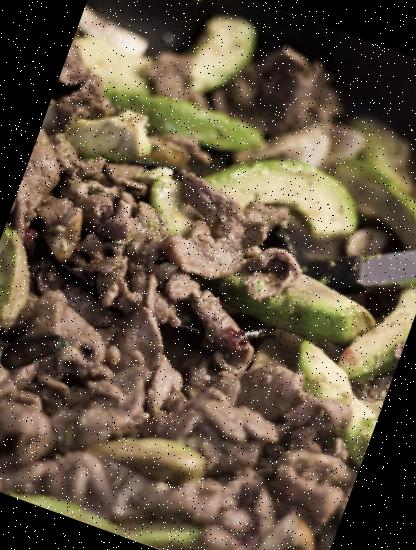Eggplant: (0, 300, 82, 397)
